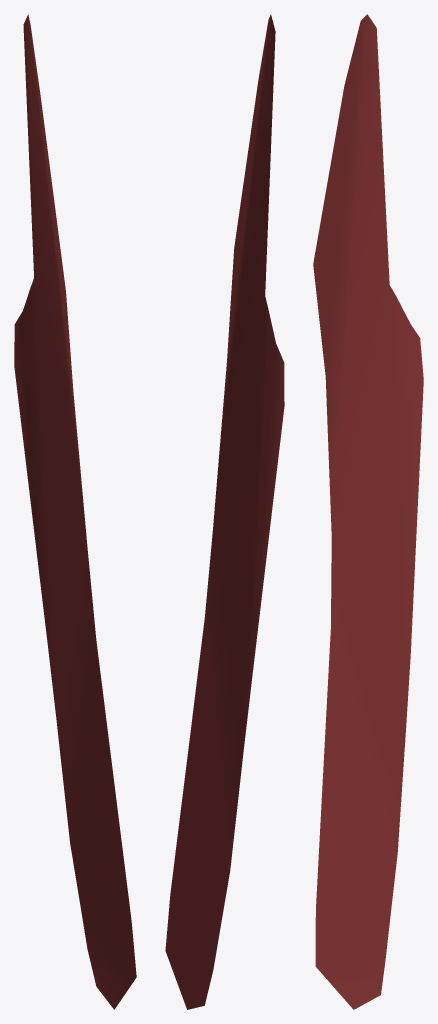
File: adductor-longus-er.glb
The picture shows the model from 3 angles, left to right: view 1: azimuth 30°, elevation 25°; view 2: azimuth 210°, elevation 25°; view 3: azimuth 270°, elevation 25°; orthographic projection. The views are drawn at different scales.
Visible parts, largest first — view 1: Adductor longus.er; view 2: Adductor longus.er; view 3: Adductor longus.er.
Part boxes in pixels (left/top/right/bottom): Adductor longus.er: left=14, top=14, right=136, bottom=1009; Adductor longus.er: left=165, top=14, right=284, bottom=1009; Adductor longus.er: left=313, top=14, right=423, bottom=1009.
Size of the model in its own units: 0.00768 by 0.0898 by 0.00939.
